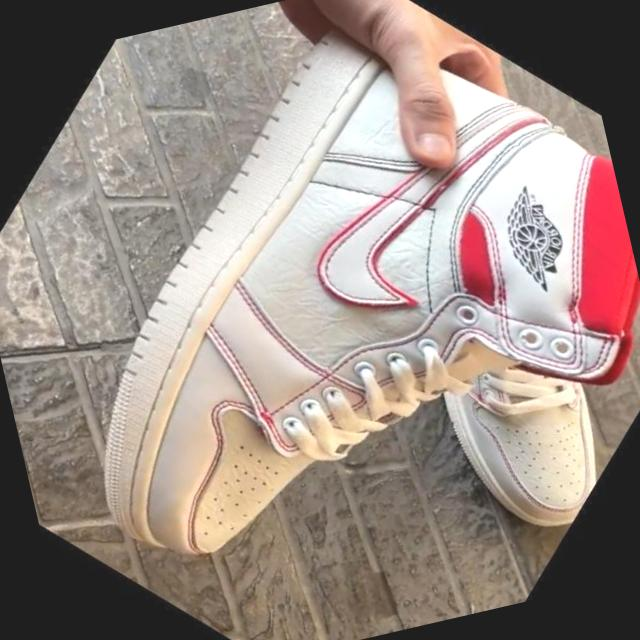nike_fake_jordan: (0, 0, 640, 640), (189, 19, 640, 606)
